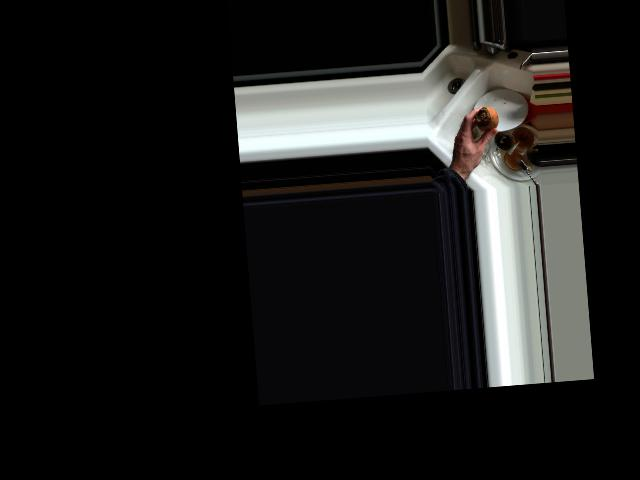sweet_potato: (473, 104, 500, 137)
